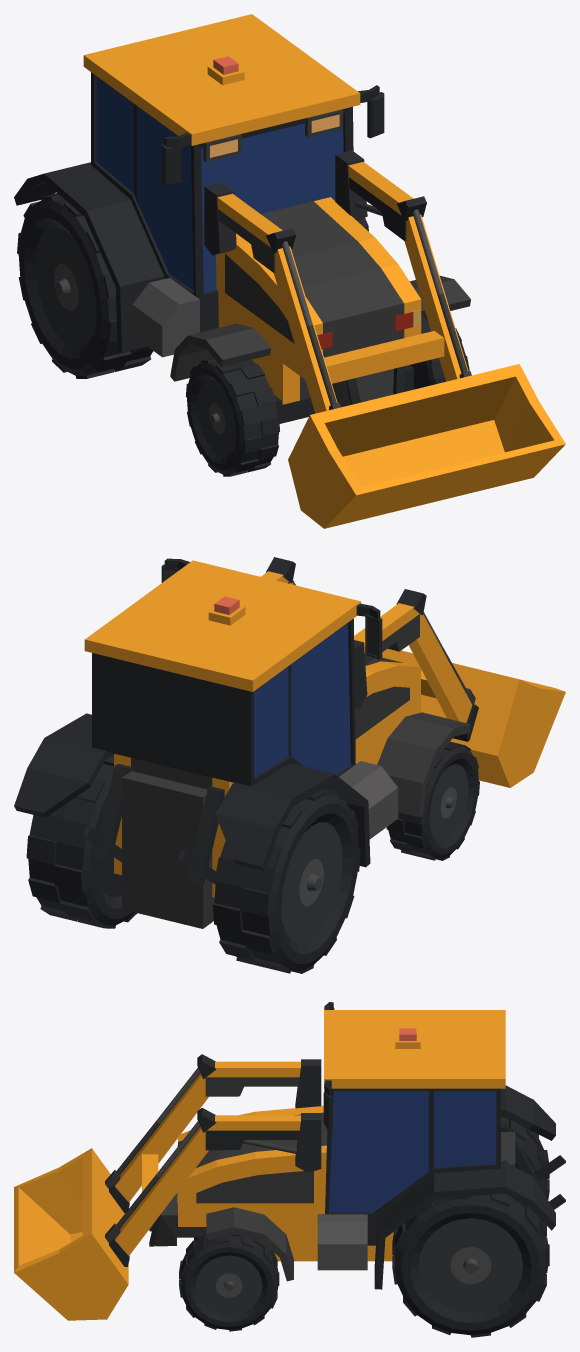
The model's file is TractorDigger_3.fbx.
3 renders of one model, top to bottom at view 1: azimuth 30°, elevation 25°; view 2: azimuth 150°, elevation 25°; view 3: azimuth 270°, elevation 25°, orthographic. The views are drawn at different scales.
Visible parts, largest first — view 1: TractorDigger_3, Digger_1.001, TractorDiggerBackWheels_3, TractorDiggerFrontWheels_3; view 2: TractorDigger_3, TractorDiggerBackWheels_3, Digger_1.001, TractorDiggerFrontWheels_3; view 3: TractorDigger_3, Digger_1.001, TractorDiggerBackWheels_3, TractorDiggerFrontWheels_3.
Part boxes in pixels (left/top/right/bottom): TractorDigger_3: left=14, top=14, right=470, bottom=423; Digger_1.001: left=204, top=150, right=565, bottom=528; TractorDiggerBackWheels_3: left=17, top=193, right=153, bottom=378; TractorDiggerFrontWheels_3: left=186, top=317, right=469, bottom=476; TractorDigger_3: left=14, top=558, right=470, bottom=928; TractorDiggerBackWheels_3: left=26, top=755, right=360, bottom=973; Digger_1.001: left=261, top=557, right=565, bottom=787; TractorDiggerFrontWheels_3: left=386, top=741, right=479, bottom=860; TractorDigger_3: left=149, top=1002, right=565, bottom=1289; Digger_1.001: left=14, top=1054, right=321, bottom=1320; TractorDiggerBackWheels_3: left=392, top=1116, right=549, bottom=1337; TractorDiggerFrontWheels_3: left=179, top=1232, right=279, bottom=1331.
Bounding box in the file's own units: 224 × 260 × 502.
